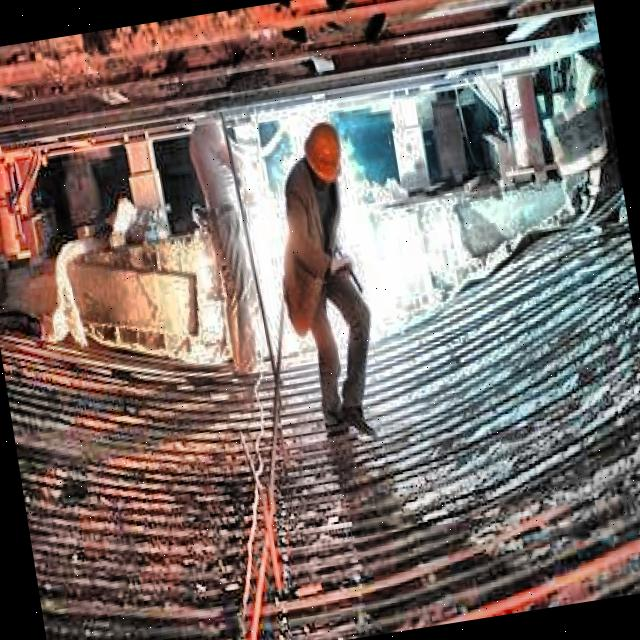helmet: (296, 110, 351, 198)
